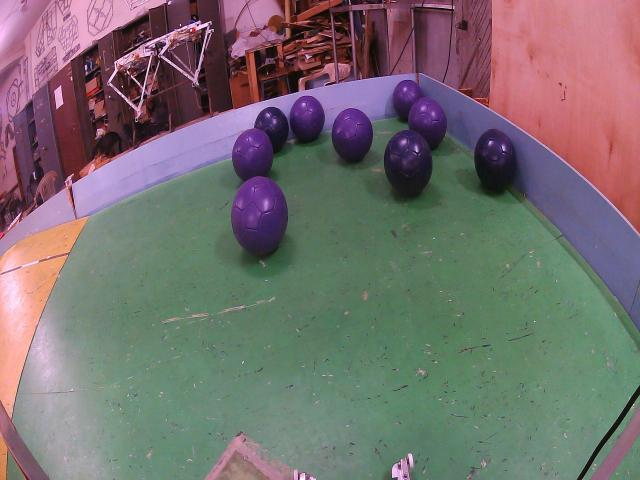jambhalya: (231, 177, 288, 255), (232, 128, 274, 182), (331, 108, 372, 162), (409, 97, 448, 148), (290, 95, 325, 142), (392, 80, 424, 120)
kaalyya: (384, 130, 432, 197), (475, 128, 516, 192), (254, 107, 289, 152)
